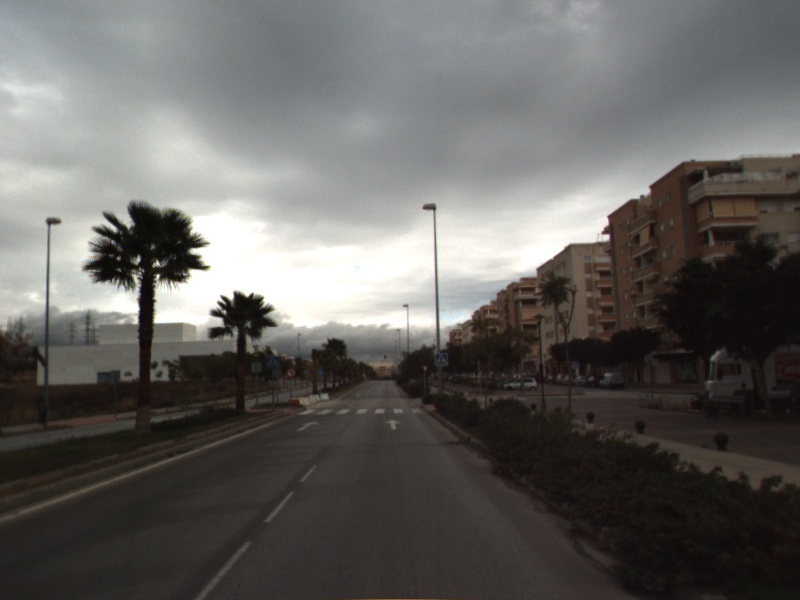STRAIGHT: (294, 418, 320, 433), (383, 417, 403, 431)
